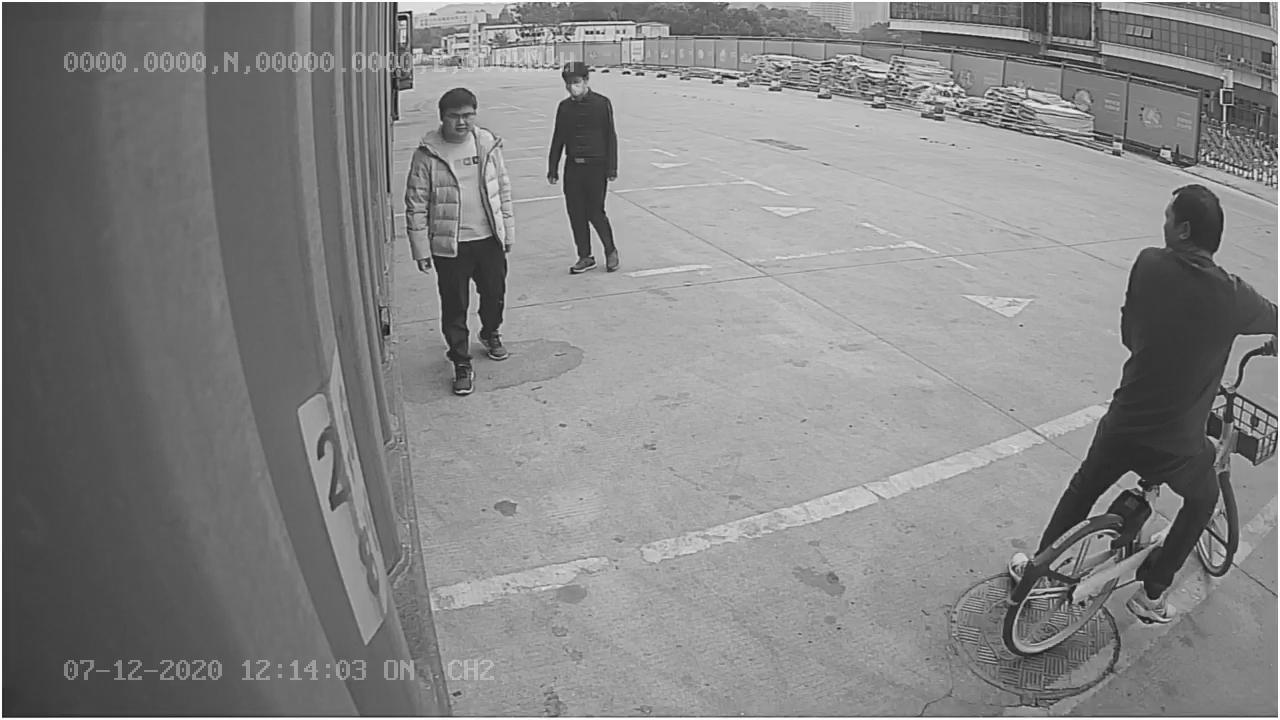person: (404, 84, 524, 395), (539, 57, 637, 291)
